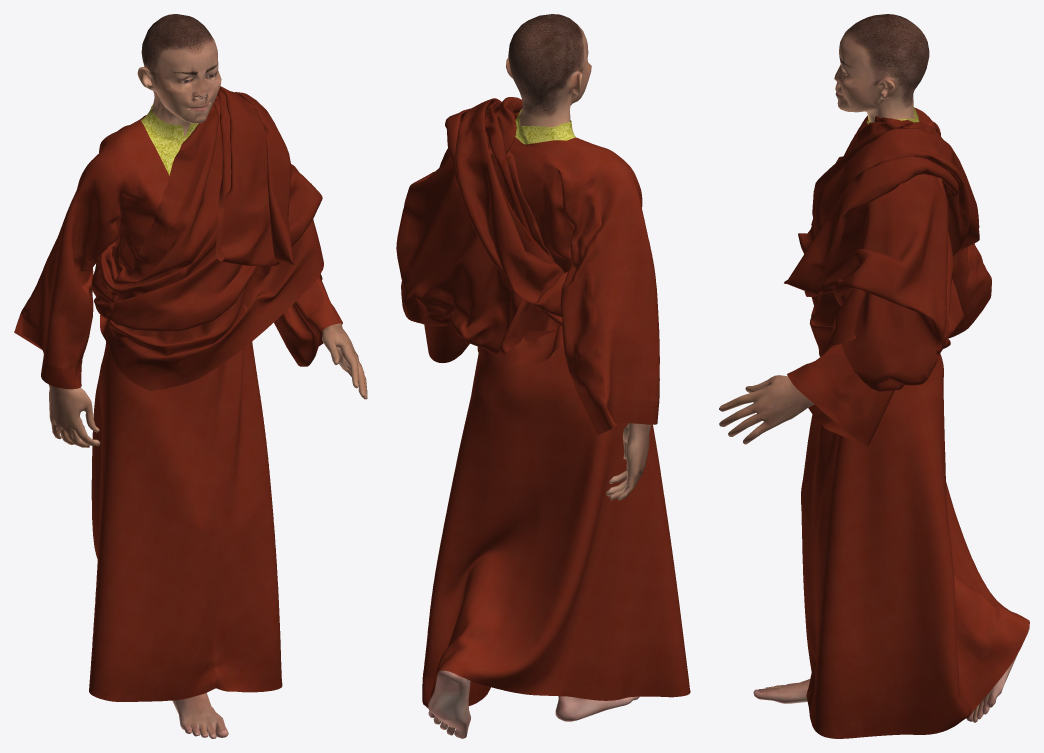
File: nun_lite.glb
3 views of the same model, side by side, from view 1: azimuth 30°, elevation 25°; view 2: azimuth 150°, elevation 25°; view 3: azimuth 270°, elevation 25° (orthographic). The views are drawn at different scales.
Parts seen in each view (by area): view 1: Object_2, Object_7, Object_8, Object_6, Object_3; view 2: Object_2, Object_8, Object_7, Object_6, Object_3; view 3: Object_2, Object_7, Object_6, Object_8.
Part boxes in pixels (<box>): Object_2: <box>89,341,282,701</box>; Object_7: <box>91,86,323,390</box>; Object_8: <box>14,115,342,389</box>; Object_6: <box>49,14,367,738</box>; Object_3: <box>141,105,198,175</box>; Object_2: <box>422,345,690,708</box>; Object_8: <box>424,137,659,434</box>; Object_7: <box>396,97,568,355</box>; Object_6: <box>428,14,651,738</box>; Object_3: <box>515,109,575,144</box>; Object_2: <box>801,353,1029,738</box>; Object_7: <box>784,116,979,391</box>; Object_6: <box>719,14,1029,722</box>; Object_8: <box>787,108,991,445</box>.
Bounding box in the file's own units: 0.6363 × 1.6 × 0.6527.
6 materials, 6 textured.
